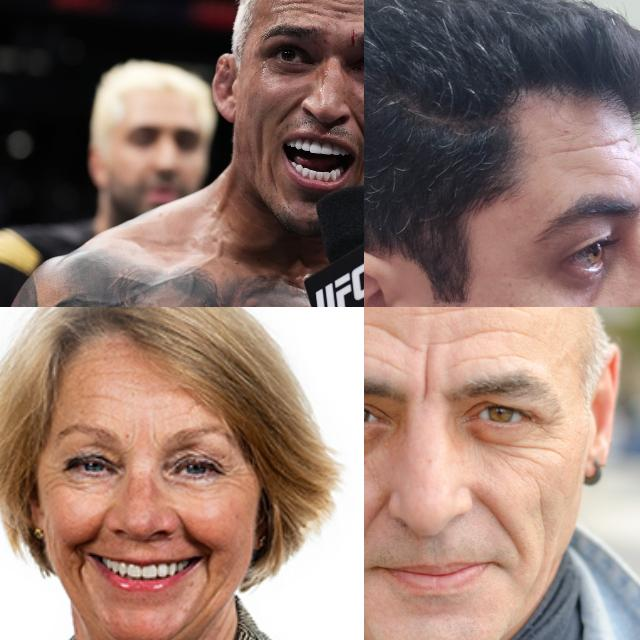crows_feet: (222, 448, 242, 492), (42, 456, 66, 492), (534, 410, 564, 434)
forehead: (549, 132, 625, 156), (578, 158, 632, 188), (442, 320, 500, 342), (364, 312, 397, 340), (364, 345, 400, 370), (80, 378, 114, 404), (466, 348, 516, 364), (443, 307, 515, 317), (328, 0, 353, 26), (275, 0, 313, 17), (411, 307, 438, 321)
frown_line: (416, 350, 434, 396)
gummy_smile: (481, 494, 514, 542), (174, 504, 208, 550), (78, 512, 106, 548), (364, 496, 388, 530), (278, 100, 298, 126), (353, 117, 364, 152)
masseter: (534, 488, 550, 536), (266, 162, 278, 190)
sad_smile: (70, 550, 92, 590), (199, 555, 215, 587)
